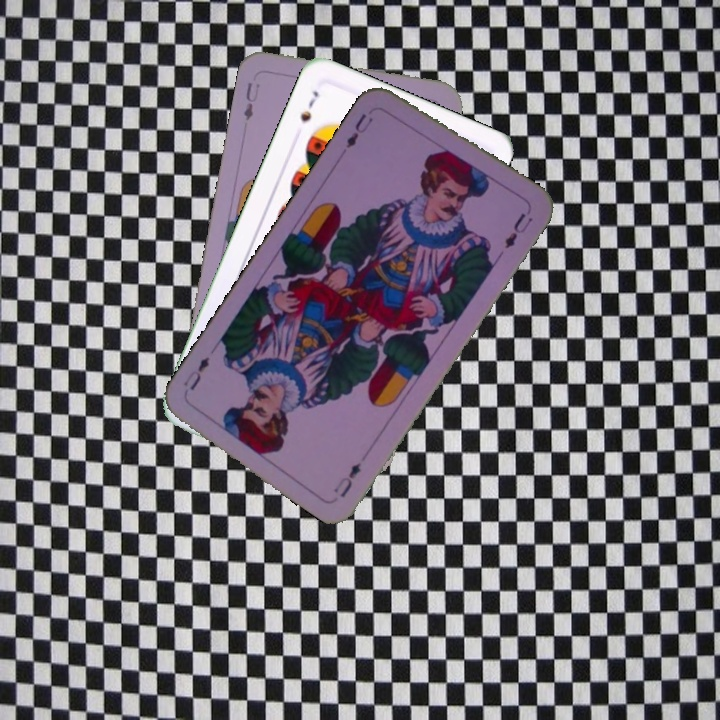EU: (329, 458, 364, 501), (342, 109, 376, 151), (239, 78, 262, 123)
S7: (296, 86, 322, 125)
